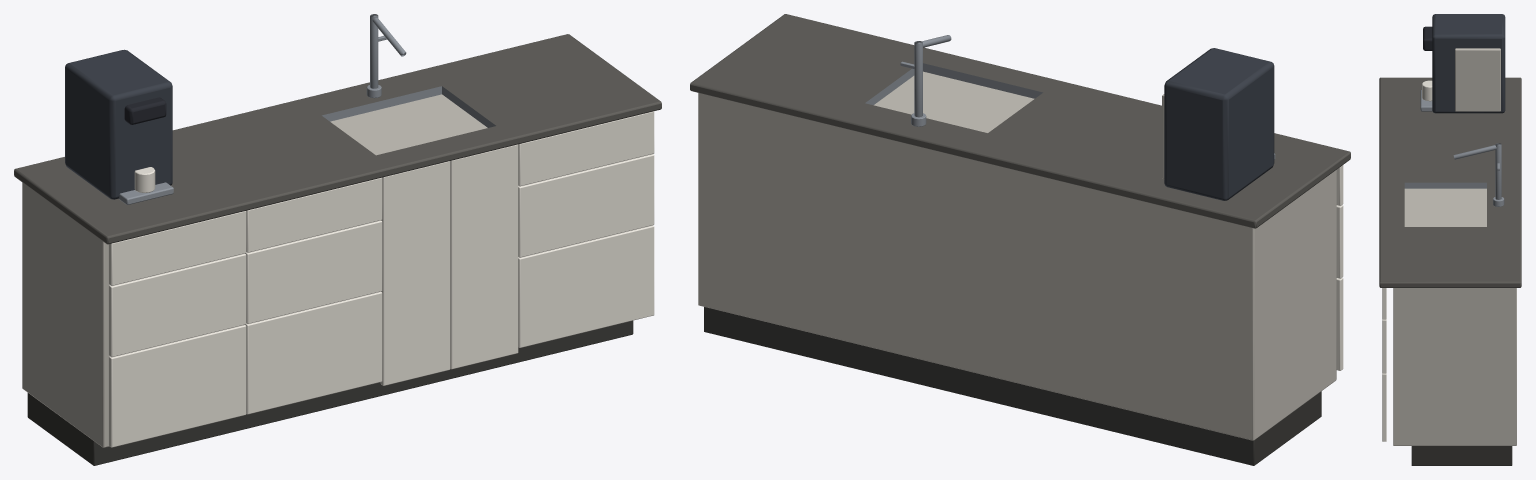
Rendered from back_counter.fbx.
3 renders of one model, left to right at view 1: azimuth 30°, elevation 25°; view 2: azimuth 150°, elevation 25°; view 3: azimuth 270°, elevation 25°, orthographic. The views are drawn at different scales.
Visible parts, largest first — view 1: back_counter; view 2: back_counter; view 3: back_counter.
Boxes of the visible parts, x1=… form: back_counter: x1=14, y1=14, x2=661, y2=465; back_counter: x1=690, y1=14, x2=1350, y2=465; back_counter: x1=1379, y1=14, x2=1521, y2=465.
Size of the model in its own units: 2.12 by 0.62 by 1.28.
